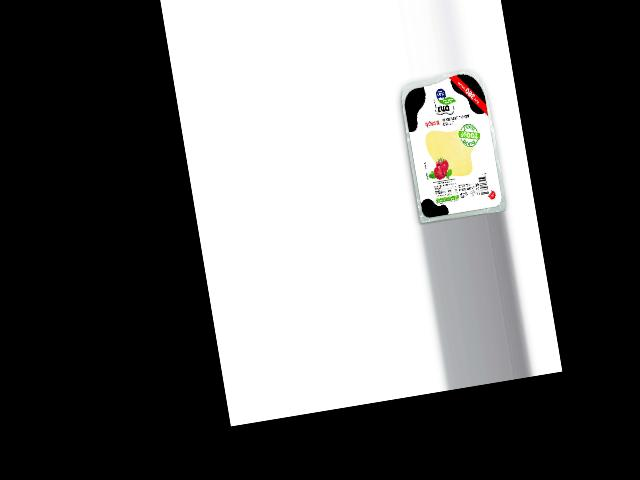cheese: (396, 65, 507, 224)
